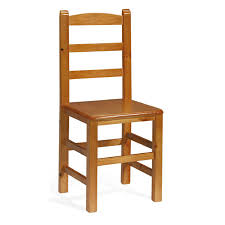tiyarina: (53, 4, 166, 218)
